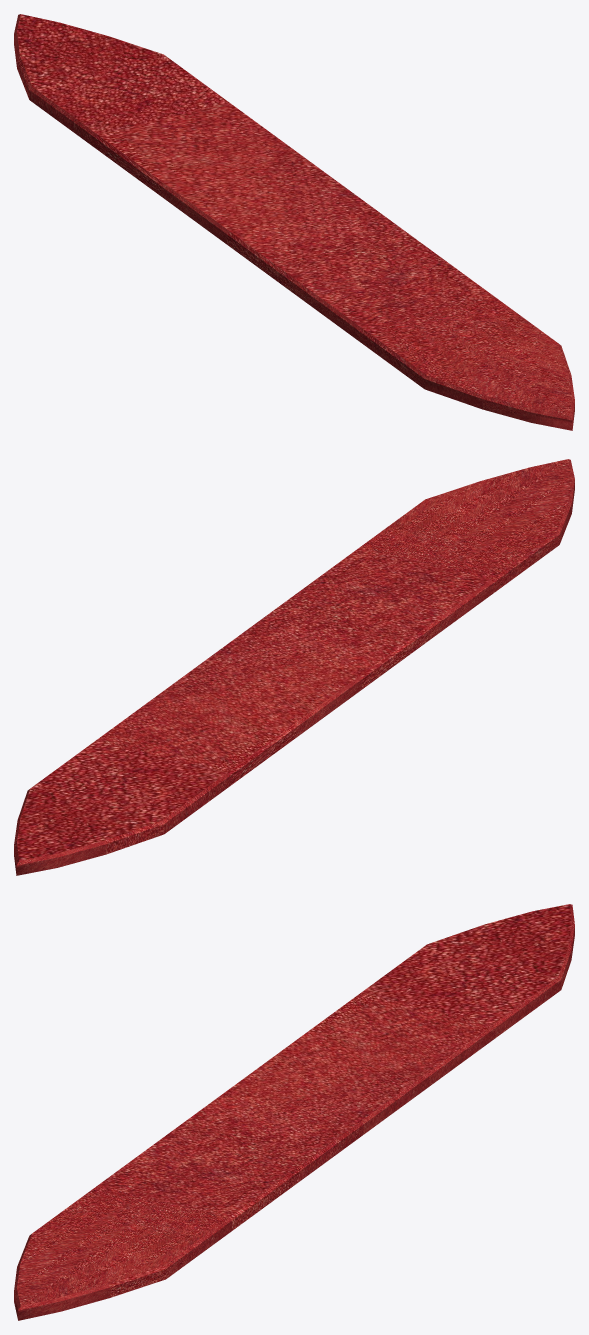
File: Carpet.fbx
The picture shows the model from 3 angles, top to bottom: view 1: azimuth 30°, elevation 25°; view 2: azimuth 150°, elevation 25°; view 3: azimuth 330°, elevation 25°; orthographic projection.
Parts seen in each view (by area): view 1: Carpet; view 2: Carpet; view 3: Carpet.
Boxes of the visible parts, bbox=[...] form: Carpet: bbox=[14, 14, 574, 430]; Carpet: bbox=[14, 459, 574, 875]; Carpet: bbox=[14, 904, 574, 1320].
Bounding box in the file's own units: 1.99 × 0.1812 × 14.01.
1 material, 1 textured.
